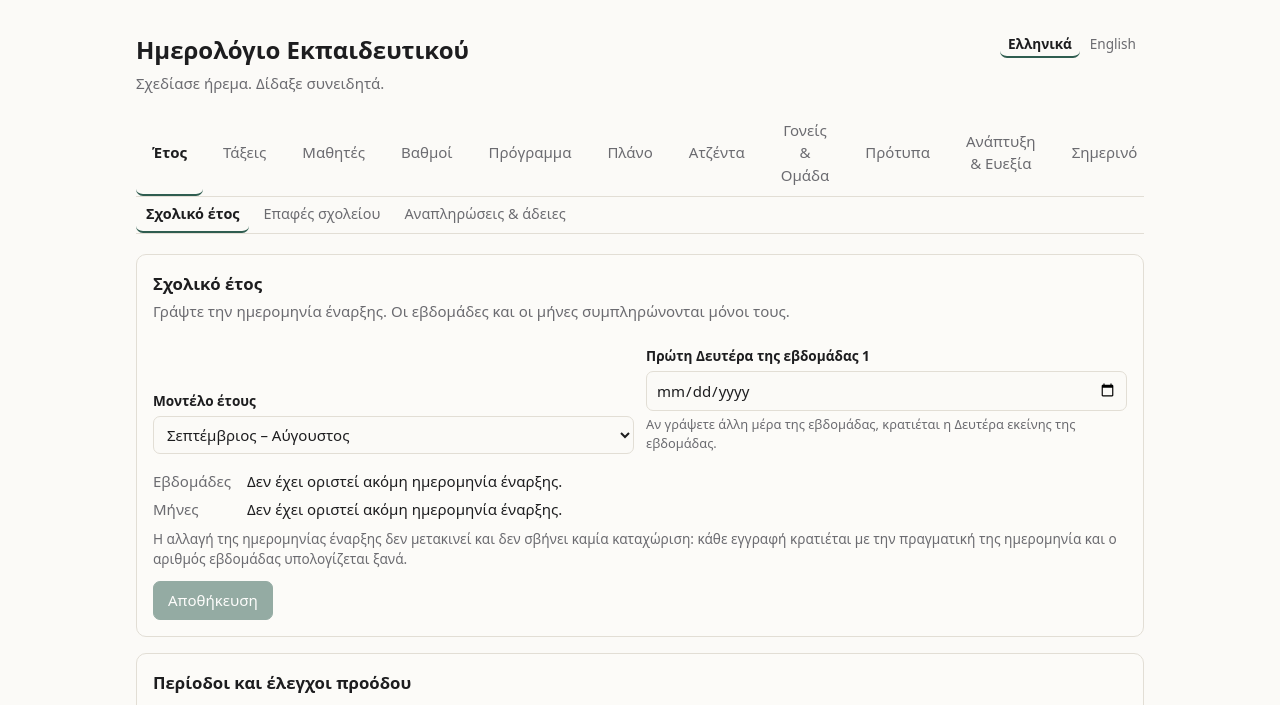
the app shell › opens on the year section and moves between the sections
Expected: the heading "Σχολικό έτος" is shown, [153,272,262,295]
Click the button "Τάξεις" at (245, 153), box [207,110,282,196]
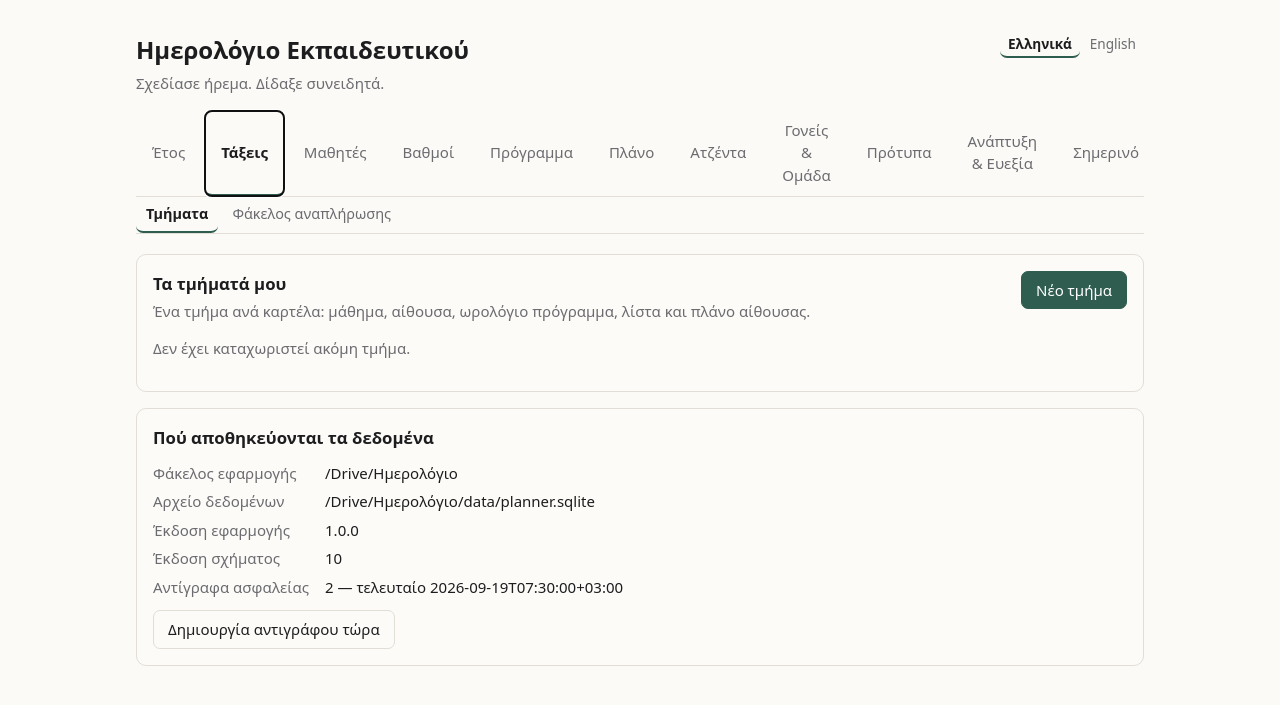
Expected: the heading "Τα τμήματά μου" is shown, [153,272,286,295]
Click the button "Μαθητές" at (335, 153), box [288,110,383,196]
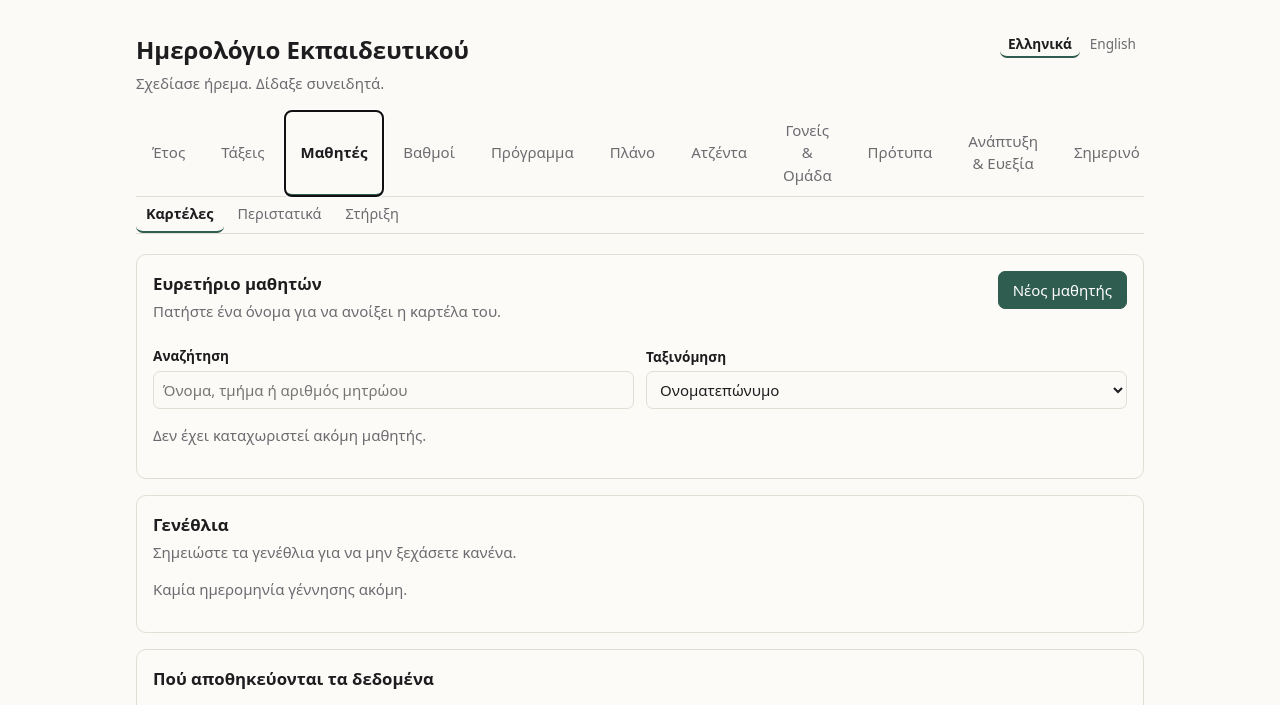
Expected: the heading "Ευρετήριο μαθητών" is shown, [153,272,322,295]
